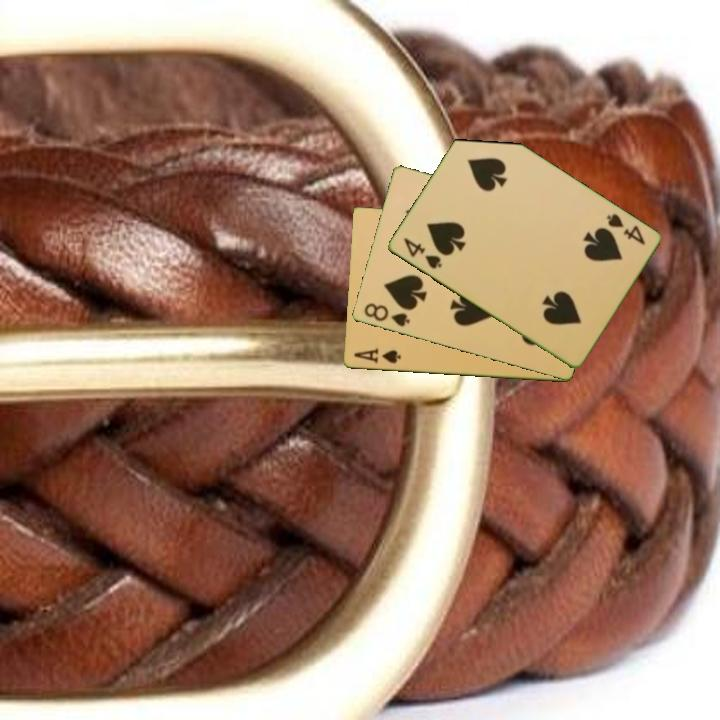4s: (602, 210, 648, 248), (399, 234, 444, 272)
8s: (360, 300, 413, 330)
As: (350, 345, 403, 366)
